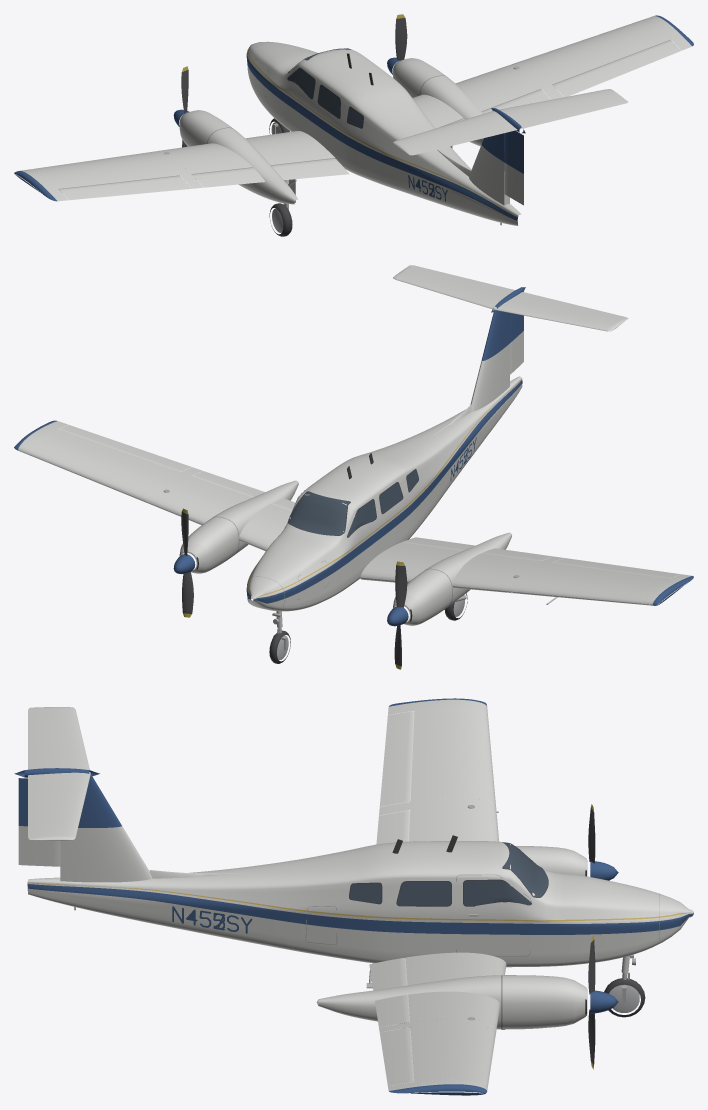
File: seminole.glb
3 renders of one model, top to bottom at view 1: azimuth 30°, elevation 25°; view 2: azimuth 150°, elevation 25°; view 3: azimuth 270°, elevation 25°, orthographic. The views are drawn at different scales.
Parts seen in each view (by area): view 1: body, cabin, stab, flapL, ailR, ailL, rud, gearL, prop.1, flapR, prop.0; view 2: body, cabin, stab, ailR, prop.1, prop.0, flapL, flapR, ailL, rud, gearN; view 3: body, cabin, stab, ailL, flapR, rud, ailR, gearN, prop.1, flapL, prop.0.
Part boxes in pixels (x1=…): body: x1=14, y1=15, x2=693, y2=225; cabin: x1=246, y1=41, x2=435, y2=188; stab: x1=393, y1=89, x2=628, y2=155; flapL: x1=192, y1=158, x2=349, y2=187; ailR: x1=553, y1=40, x2=680, y2=97; ailL: x1=59, y1=176, x2=191, y2=200; rud: x1=504, y1=130, x2=523, y2=205; gearL: x1=269, y1=179, x2=296, y2=236; prop.1: x1=387, y1=14, x2=407, y2=74; flapR: x1=447, y1=89, x2=550, y2=124; prop.0: x1=173, y1=66, x2=189, y2=147; body: x1=14, y1=287, x2=693, y2=625; cabin: x1=246, y1=442, x2=440, y2=611; stab: x1=393, y1=265, x2=628, y2=331; ailR: x1=59, y1=425, x2=191, y2=471; prop.1: x1=173, y1=508, x2=195, y2=617; prop.0: x1=387, y1=561, x2=408, y2=669; flapL: x1=402, y1=537, x2=553, y2=561; flapR: x1=192, y1=471, x2=295, y2=510; ailL: x1=553, y1=558, x2=680, y2=578; rud: x1=510, y1=313, x2=523, y2=374; gearN: x1=269, y1=611, x2=290, y2=663; body: x1=14, y1=698, x2=587, y2=1095; cabin: x1=287, y1=835, x2=693, y2=967; stab: x1=28, y1=707, x2=90, y2=840; ailL: x1=379, y1=711, x2=414, y2=806; flapR: x1=369, y1=958, x2=410, y2=1027; rud: x1=18, y1=778, x2=60, y2=866; ailR: x1=379, y1=1027, x2=414, y2=1086; gearN: x1=604, y1=954, x2=645, y2=1017; prop.1: x1=588, y1=935, x2=618, y2=1069; flapL: x1=376, y1=810, x2=410, y2=844; prop.0: x1=588, y1=804, x2=618, y2=880.
Size of the model in its own units: 11.78 by 3.49 by 8.67.
